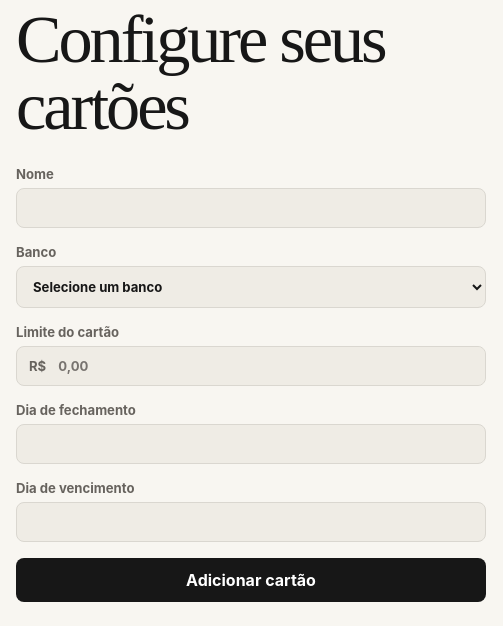
Test: assistente de primeiro acesso › permite cadastrar um cartão durante o onboarding e depois continuar
This screenshot has width=503, height=626.
Type "Cartão principal" into the field labelled "Nome" at [251, 208], box [16,188,486,228]
Select "Banco Teste" in the dropdown labelled "Banco" at [251, 287], box [16,266,486,308]
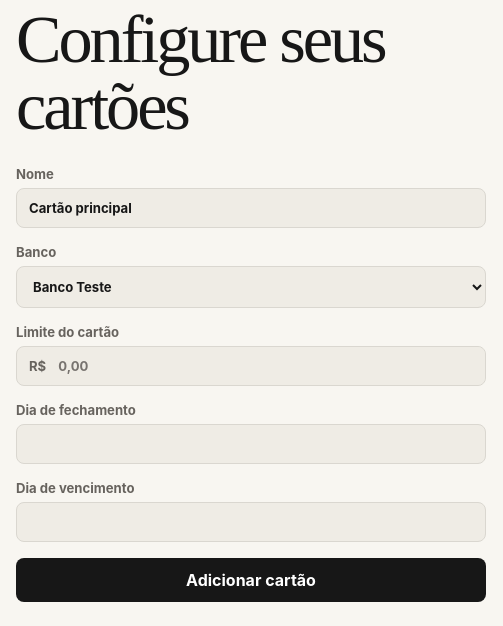
Type "R$ 2.500,00" into the field labelled "Limite do cartão R$" at [266, 366], box [46,347,485,385]
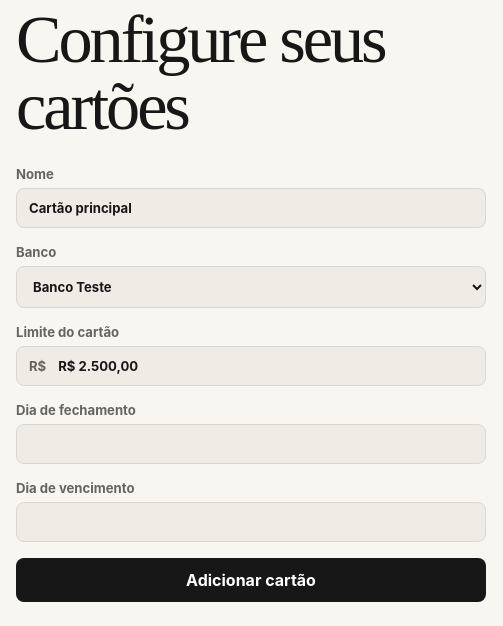
Type "8" into the number field labelled "Dia de fechamento" at [251, 444], box [16,424,486,464]
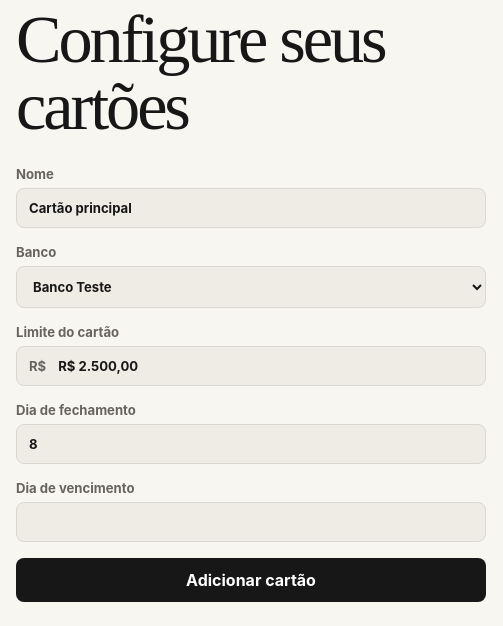
Type "17" into the number field labelled "Dia de vencimento" at [251, 522], box [16,502,486,542]
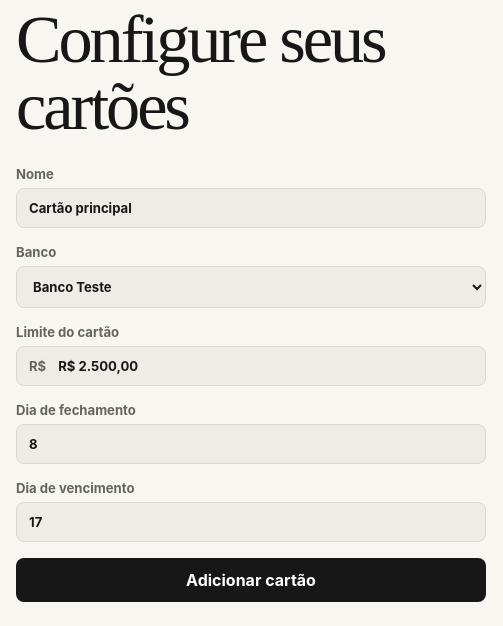
Click the button "Adicionar cartão" at [251, 580], box [16,558,486,602]
(page scrolled)
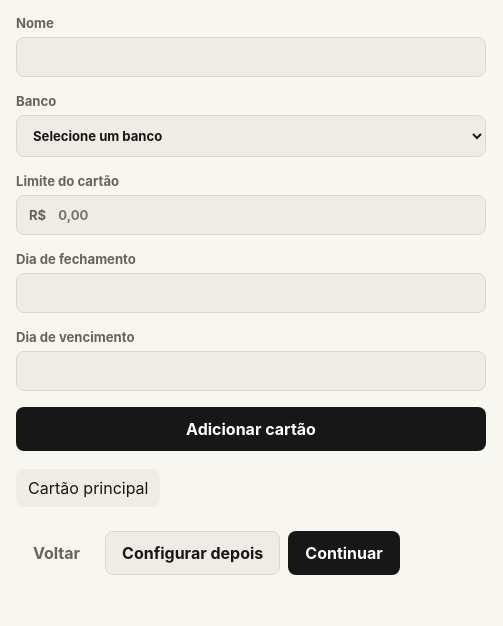
Expected: the text "Cartão principal" is shown, [16,469,160,507]
Click the button "Continuar" at [344, 553], box [288,531,400,575]
(page scrolled)
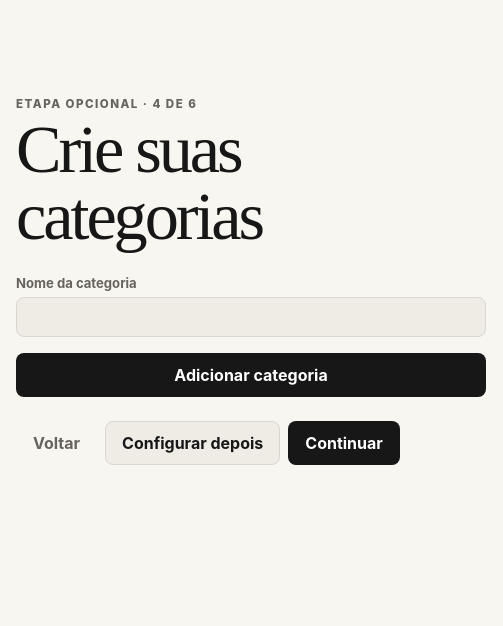
Expected: the heading "Crie suas categorias" is shown, [16,111,262,254]
